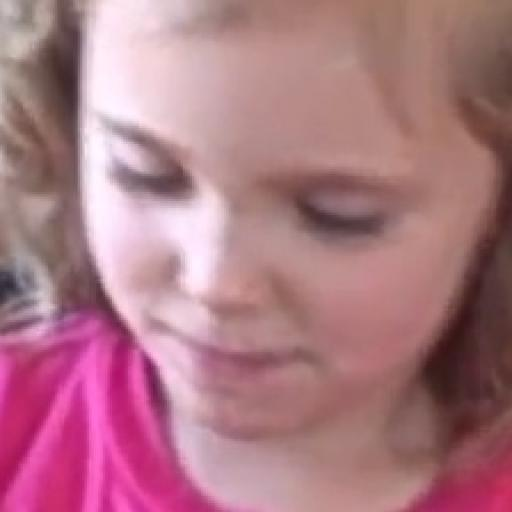Autism: (43, 9, 512, 494)
